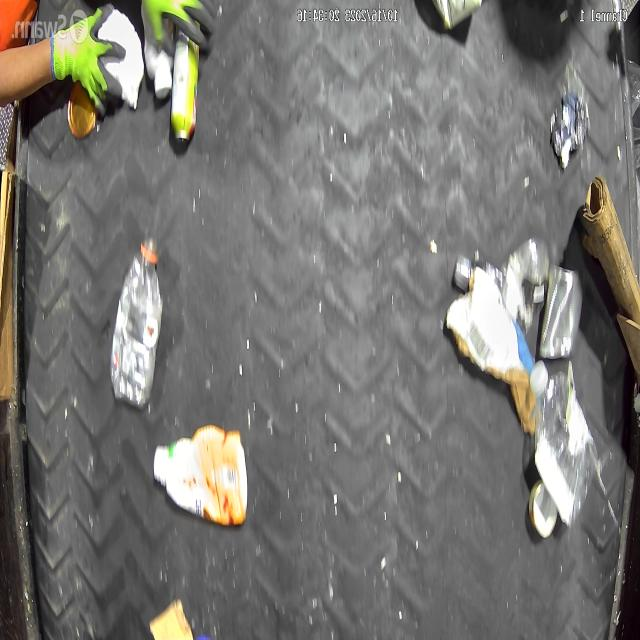can: (539, 263, 583, 367), (523, 472, 561, 554)
plastic_bottle: (529, 362, 596, 524), (110, 230, 166, 405)
